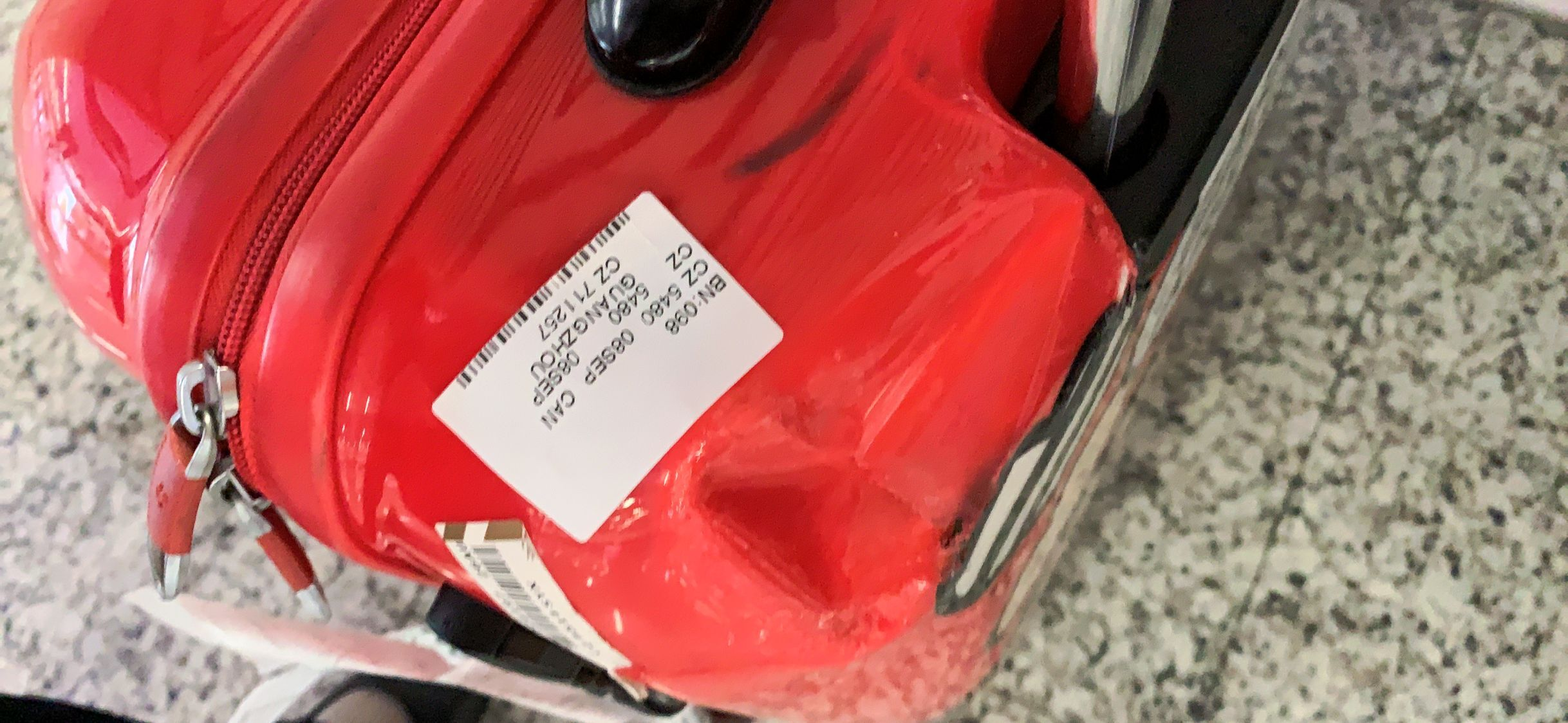rupture: (687, 447, 943, 625)
